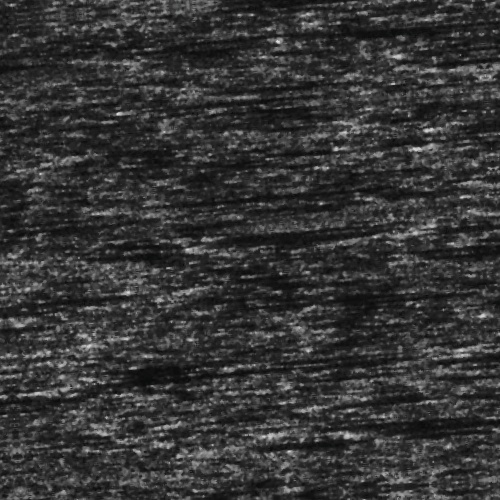object: (225, 30, 402, 49), (387, 184, 500, 213), (349, 240, 500, 251), (217, 427, 322, 436), (451, 89, 500, 108), (66, 191, 159, 200), (168, 236, 241, 247), (153, 443, 236, 452), (178, 83, 231, 94), (265, 407, 328, 416), (173, 301, 236, 310), (298, 434, 361, 443), (358, 268, 431, 275), (407, 155, 448, 166), (97, 96, 160, 101), (114, 414, 177, 419), (407, 75, 448, 82), (438, 138, 449, 147), (0, 200, 14, 205)
shadow: (314, 30, 477, 49), (112, 191, 334, 200), (205, 301, 396, 310), (205, 83, 360, 94), (297, 407, 486, 416), (205, 236, 357, 247), (329, 434, 500, 443), (269, 427, 422, 436), (195, 443, 305, 452), (129, 96, 316, 101), (0, 281, 117, 288), (428, 155, 500, 166), (428, 240, 500, 251), (395, 268, 500, 275), (476, 184, 500, 213), (0, 200, 120, 205), (146, 414, 252, 419), (0, 207, 103, 212), (443, 138, 500, 147), (428, 75, 500, 82)
